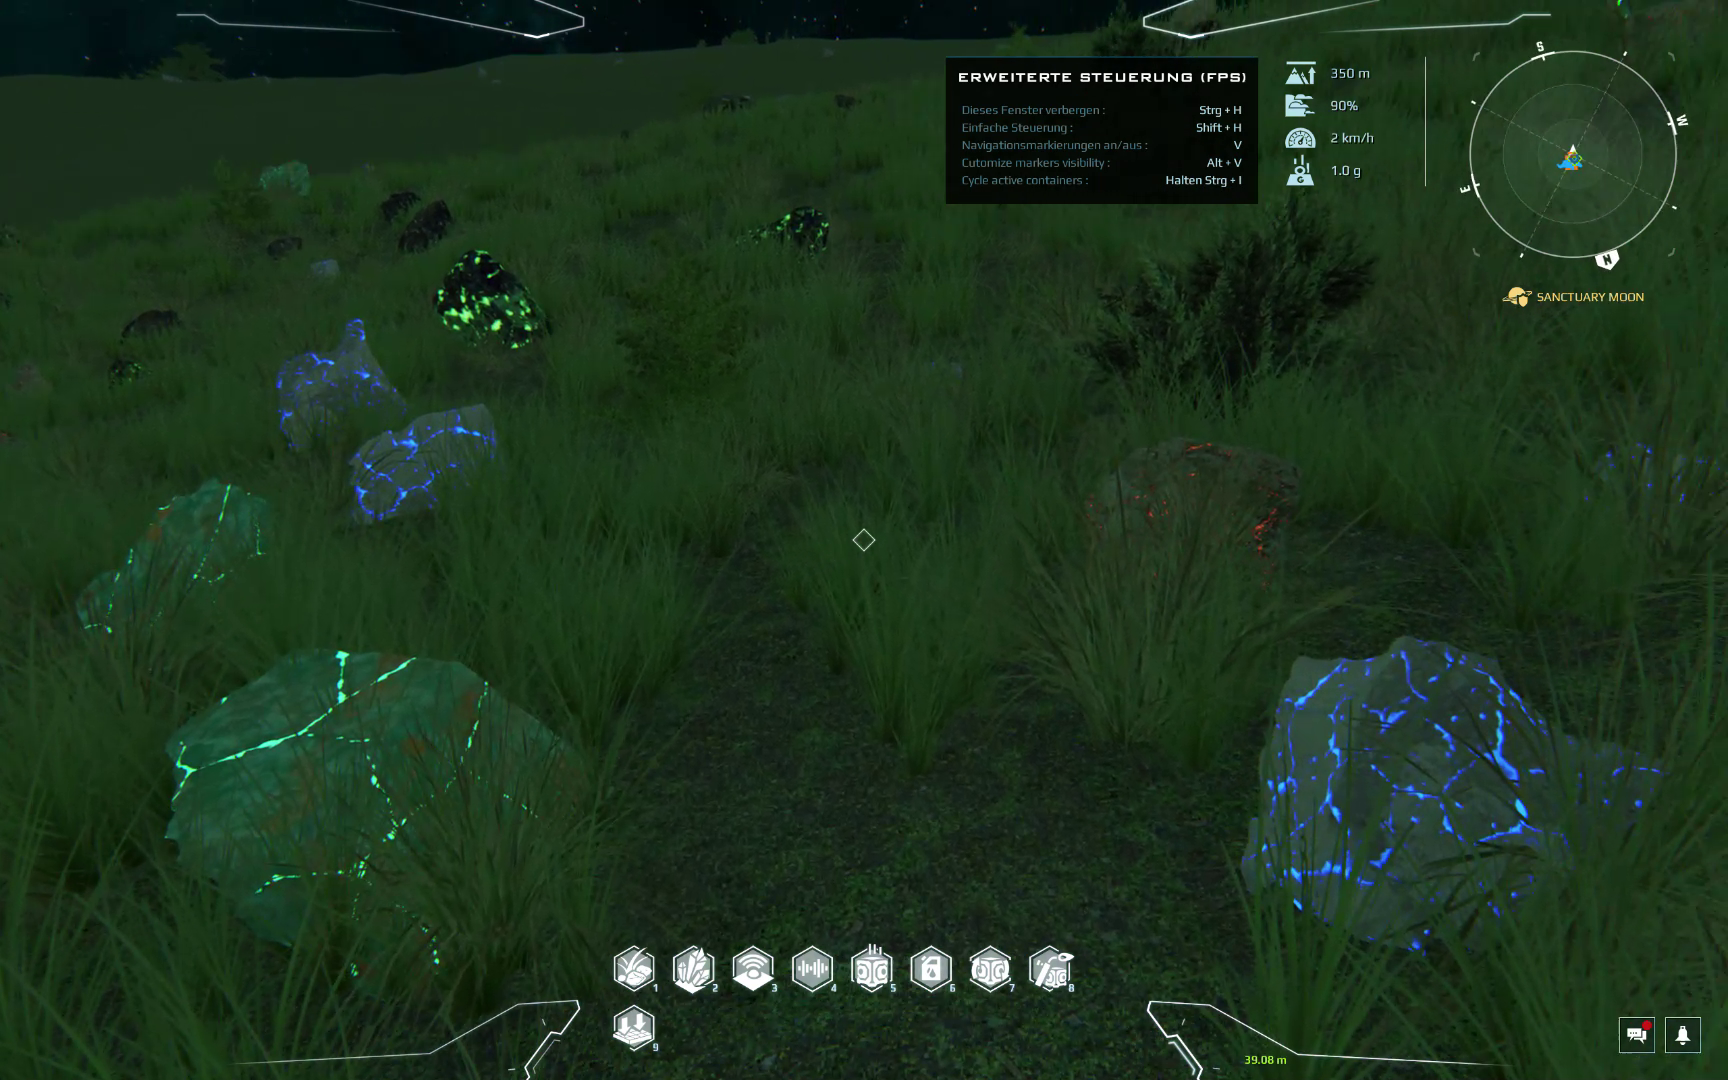Ore: (156, 645, 587, 1002), (1232, 621, 1670, 968), (1079, 431, 1304, 611), (71, 474, 277, 654), (331, 397, 511, 528), (1577, 417, 1728, 562), (262, 315, 411, 458), (429, 241, 547, 357), (732, 198, 843, 256), (396, 197, 457, 258), (113, 304, 188, 345), (372, 178, 416, 223), (102, 355, 151, 394), (262, 231, 307, 263)
